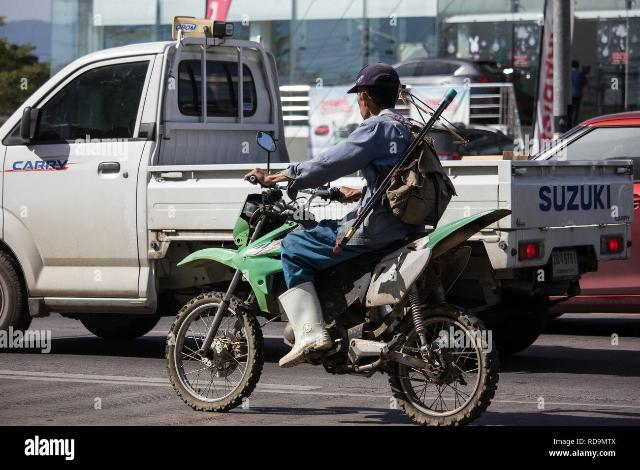motor: (166, 130, 514, 433)
non-helm: (349, 63, 402, 122)
